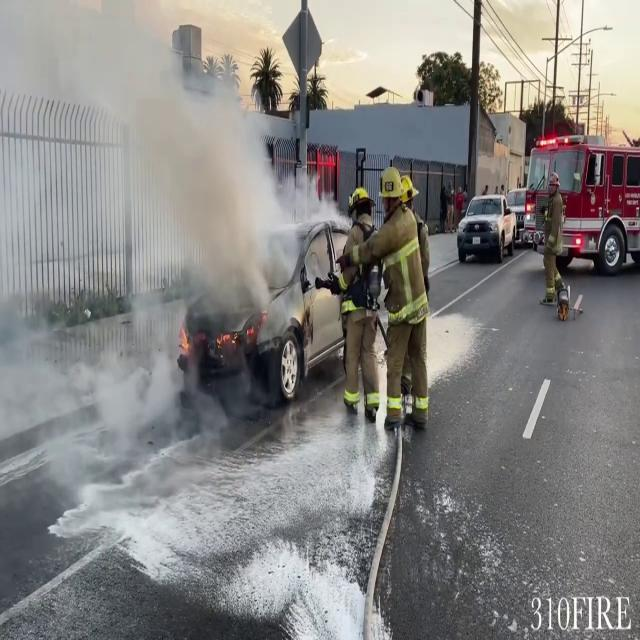Smoke: (90, 12, 304, 344)
